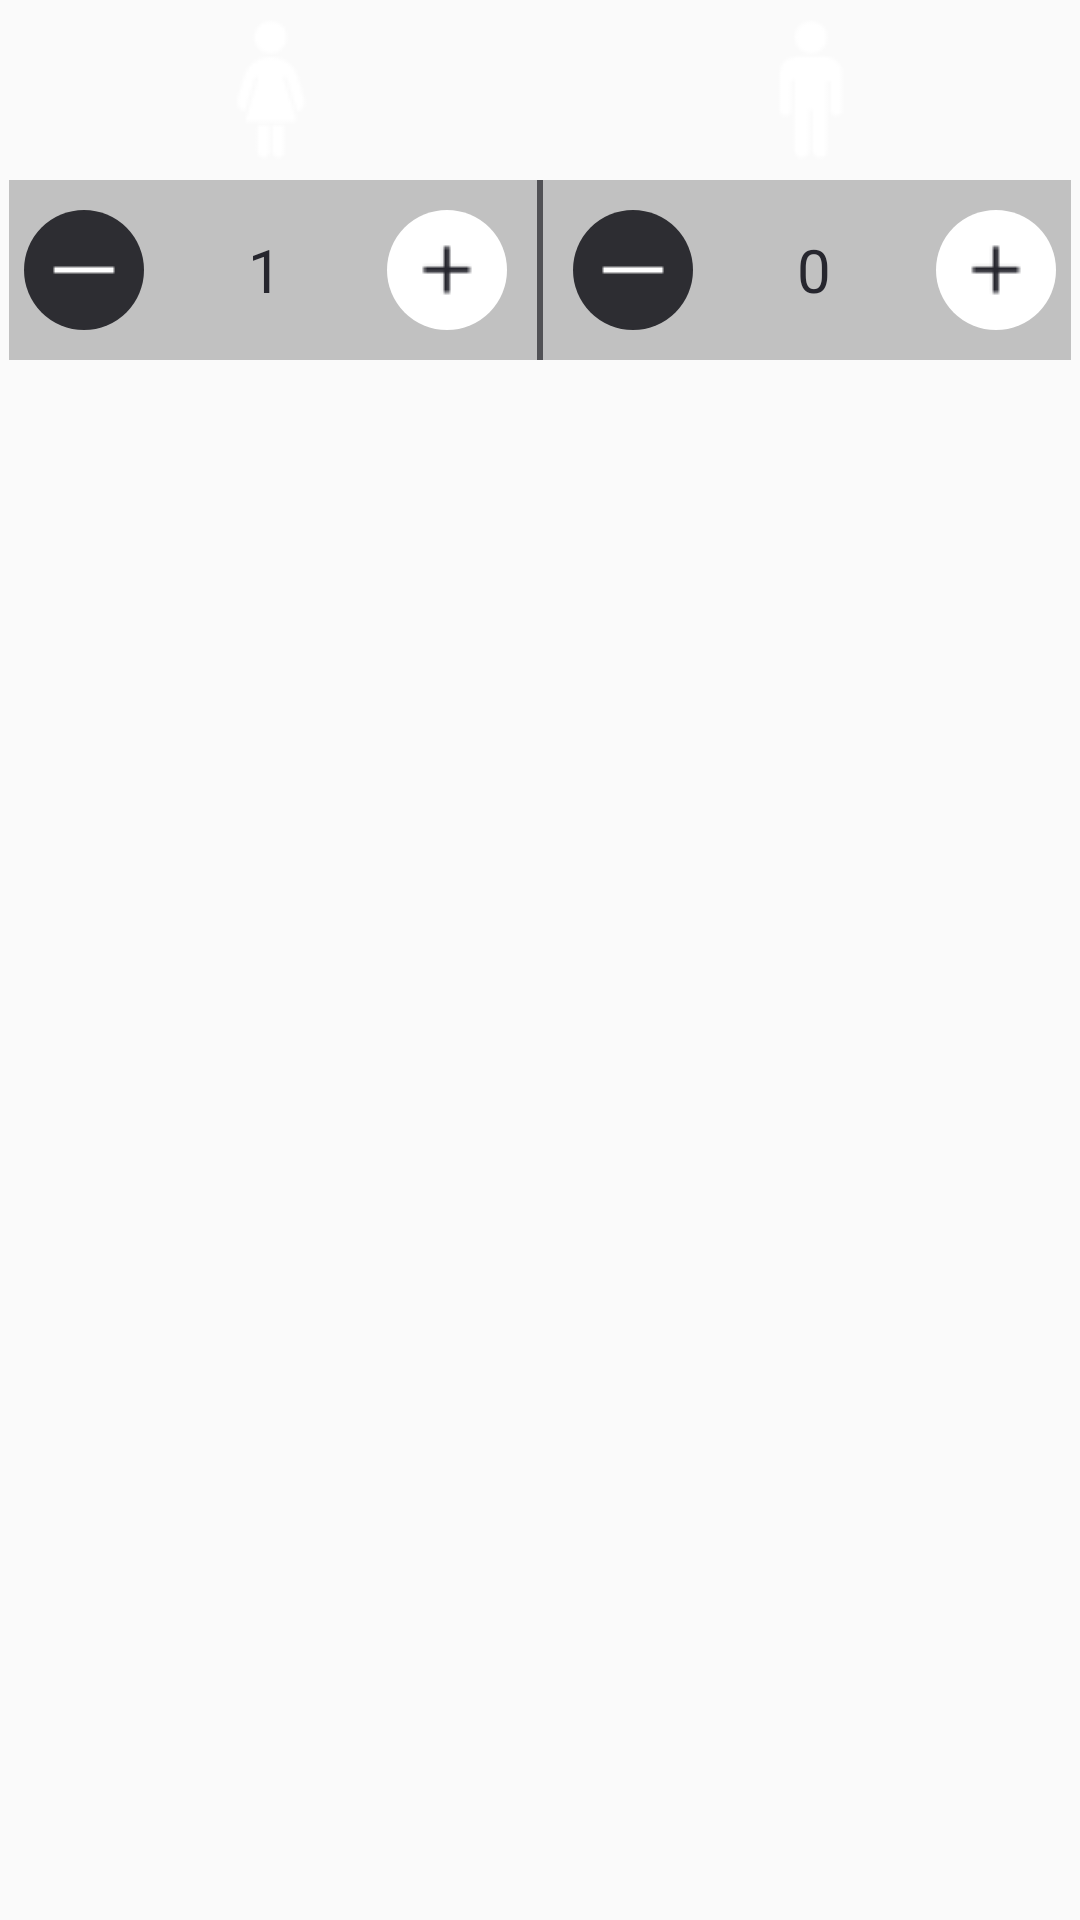

Locate icon controls on the screen. Image size 1080*1920, boxes as [x1,y1,x2,y2].
minus: [24,210,144,330], [573,210,693,330]
plus: [387,210,507,330], [936,210,1056,330]
